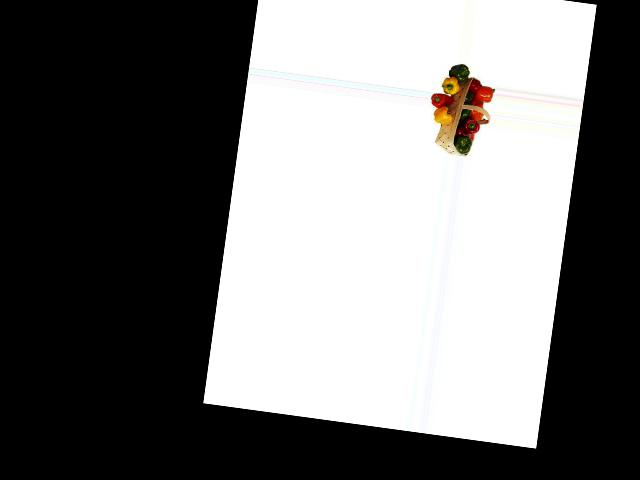bell_pepper: (454, 132, 473, 154)
